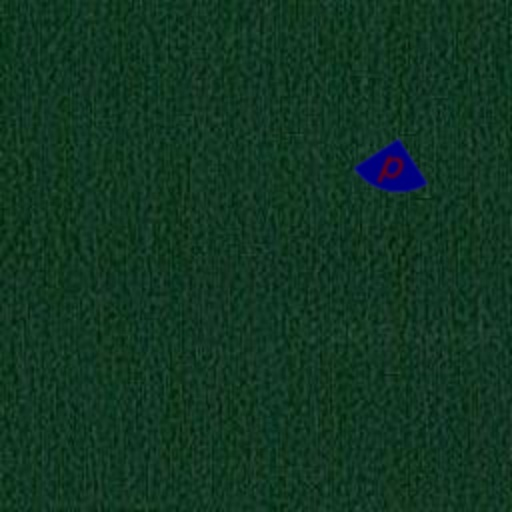quarter_circle: (348, 126, 436, 214)
